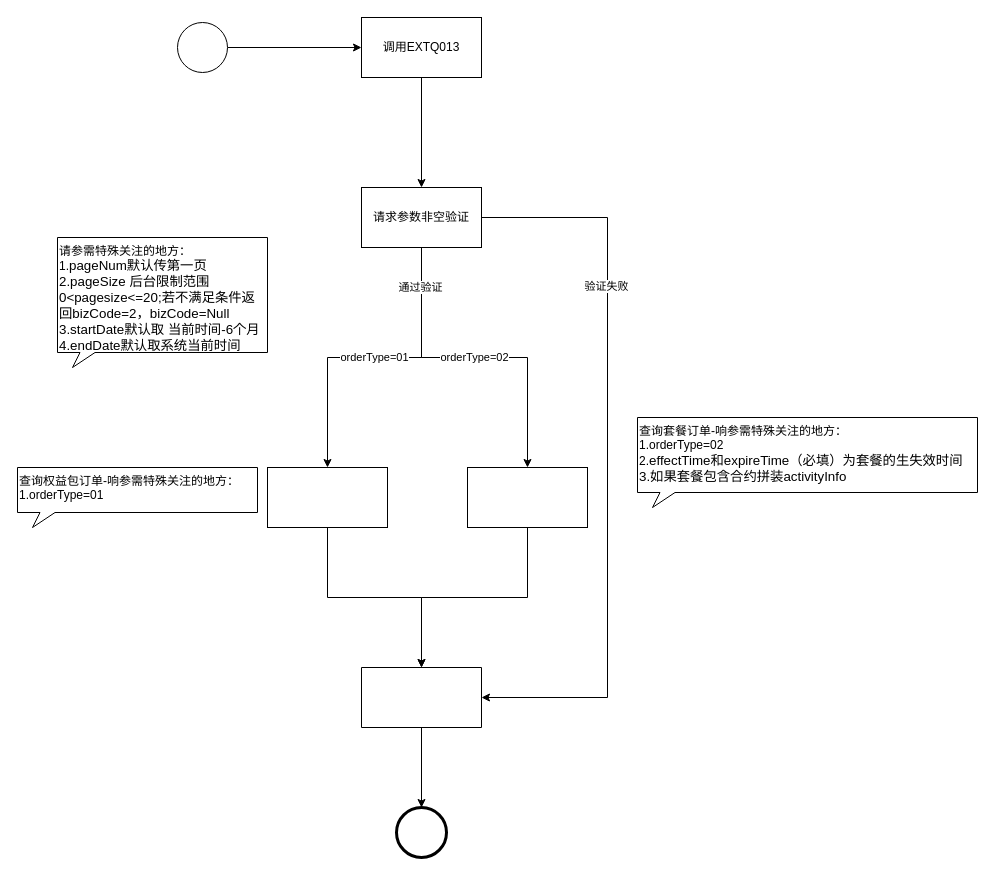
The diagram is 995 pixels wide and 875 high, and some of its shapes have lost their labels. Each missing label, with the box of its shape:
查询套餐订单: (466, 466, 588, 528)
查询权益包订单: (266, 466, 388, 528)
返回查询结果: (360, 666, 482, 728)
